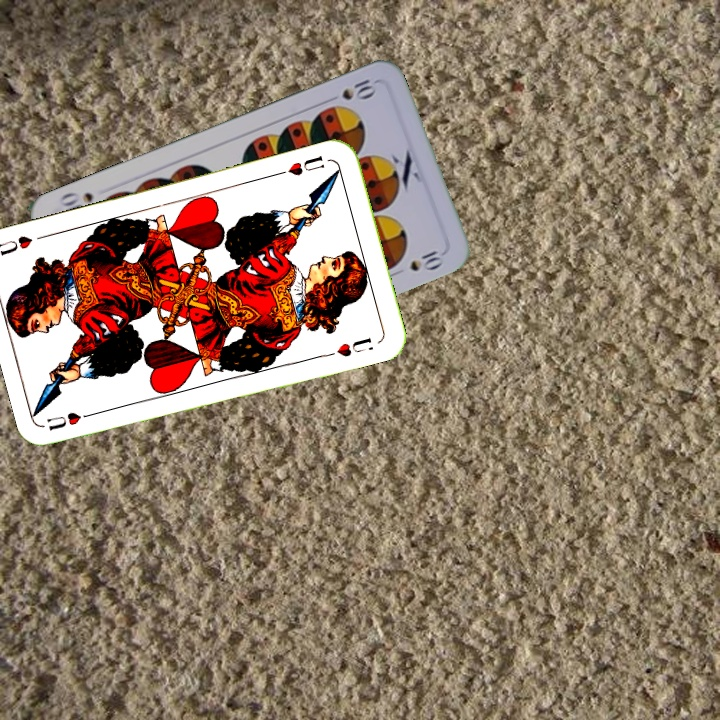HU: (43, 407, 100, 433), (274, 151, 327, 178)
S10: (338, 75, 379, 103)
